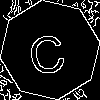C: (25, 25, 68, 76)
